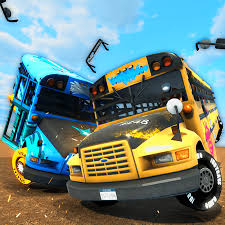bus: (66, 51, 224, 211), (1, 54, 104, 189)
